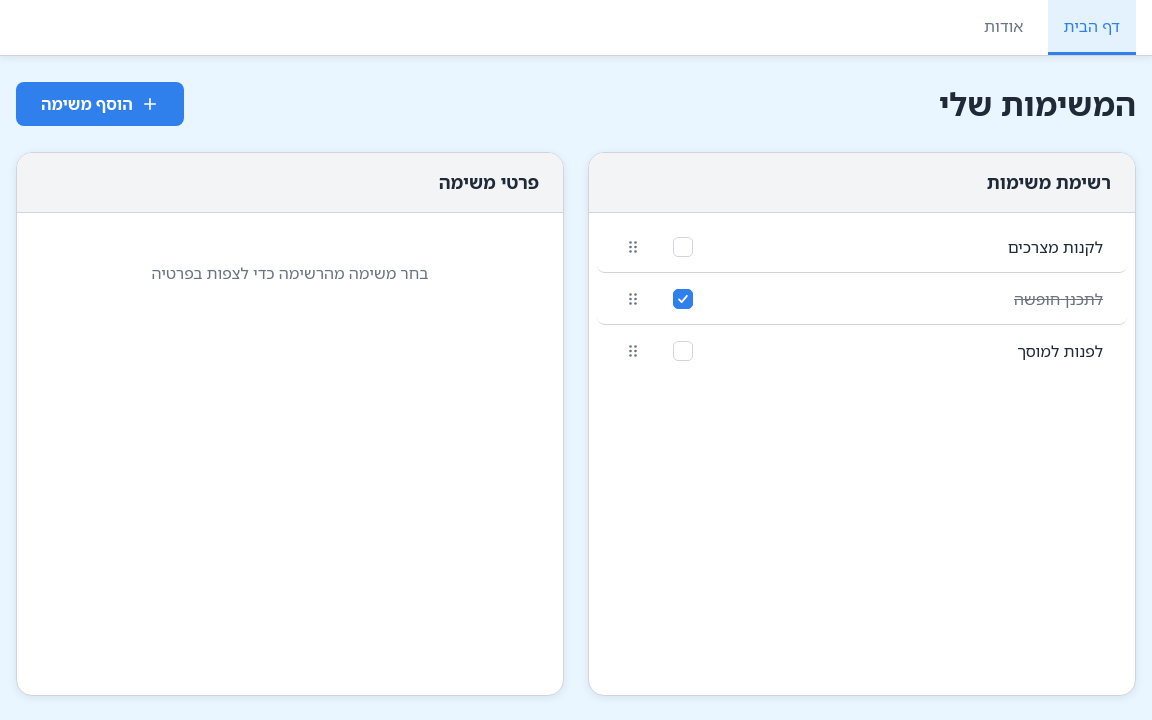
Test case: completion checkbox › puts the previous value back and shows a message when saving fails
The width and height of the screenshot is (1152, 720).
Click the checkbox named "לתכנן חופשה" at (683, 298), box [673,288,693,308]
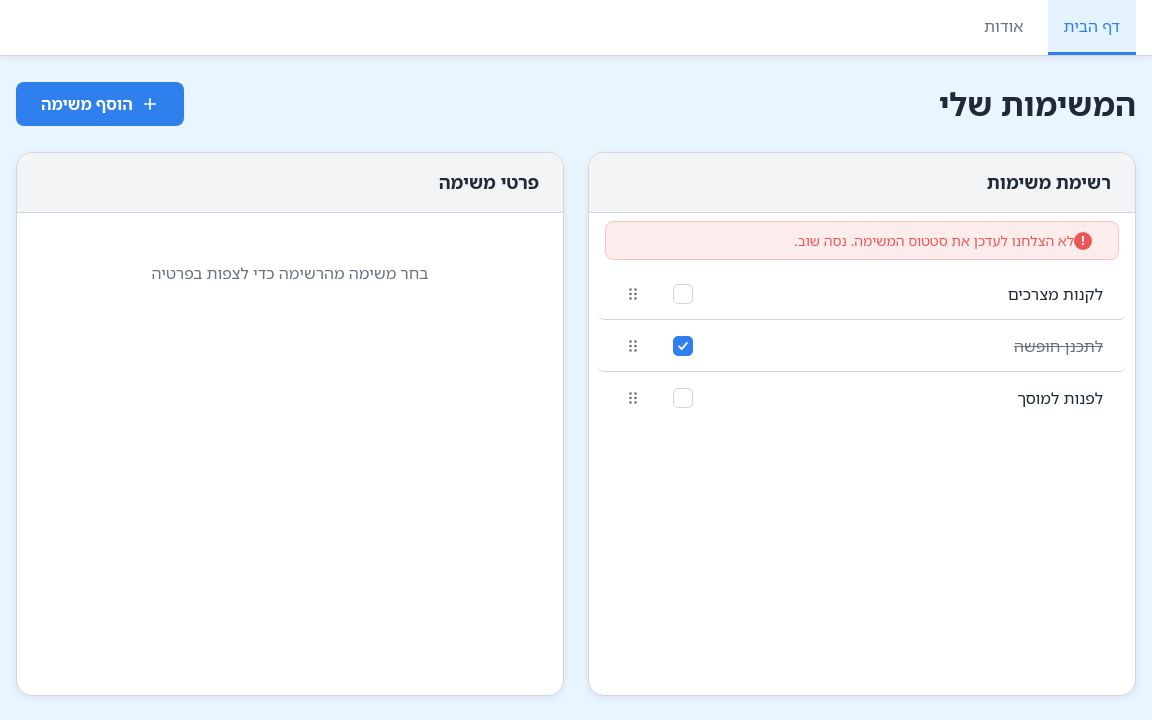
Expected: the checkbox named "לתכנן חופשה" is checked, [673,336,693,356]
Result: the message reads "לא הצלחנו לעדכן את סטטוס המשימה. נסה שוב." at [794,231,1074,250]
